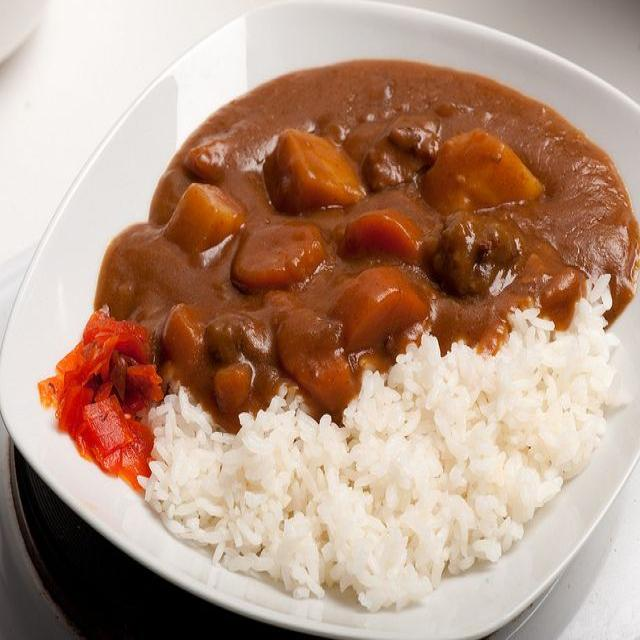Wet: (42, 51, 640, 611)
